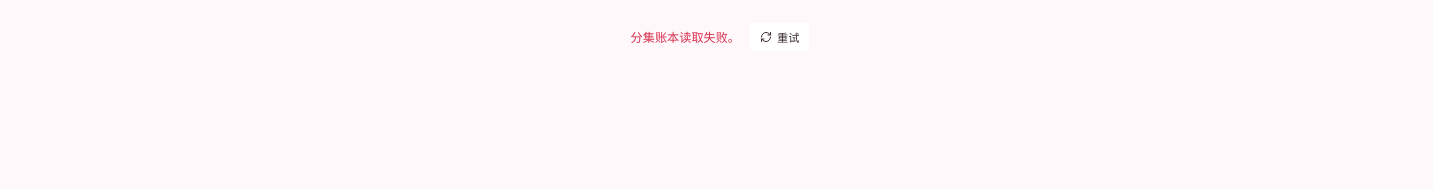
EpisodeLedgerTools › offers a retry when the ledger cannot be read
Expected: the message shows "分集账本读取失败。", [631, 29, 740, 46]
Click the button "重试" at (780, 37), box [750, 23, 809, 51]
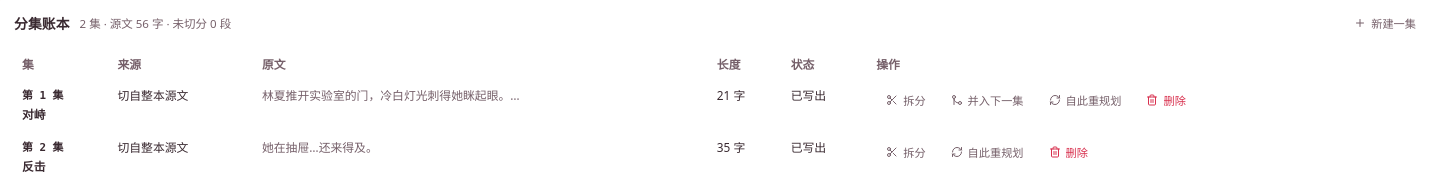
Result: the text "对峙" is shown at [22, 106, 46, 122]
